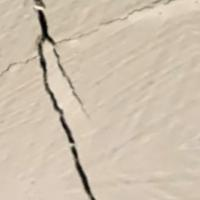crack: (15, 0, 113, 199)
